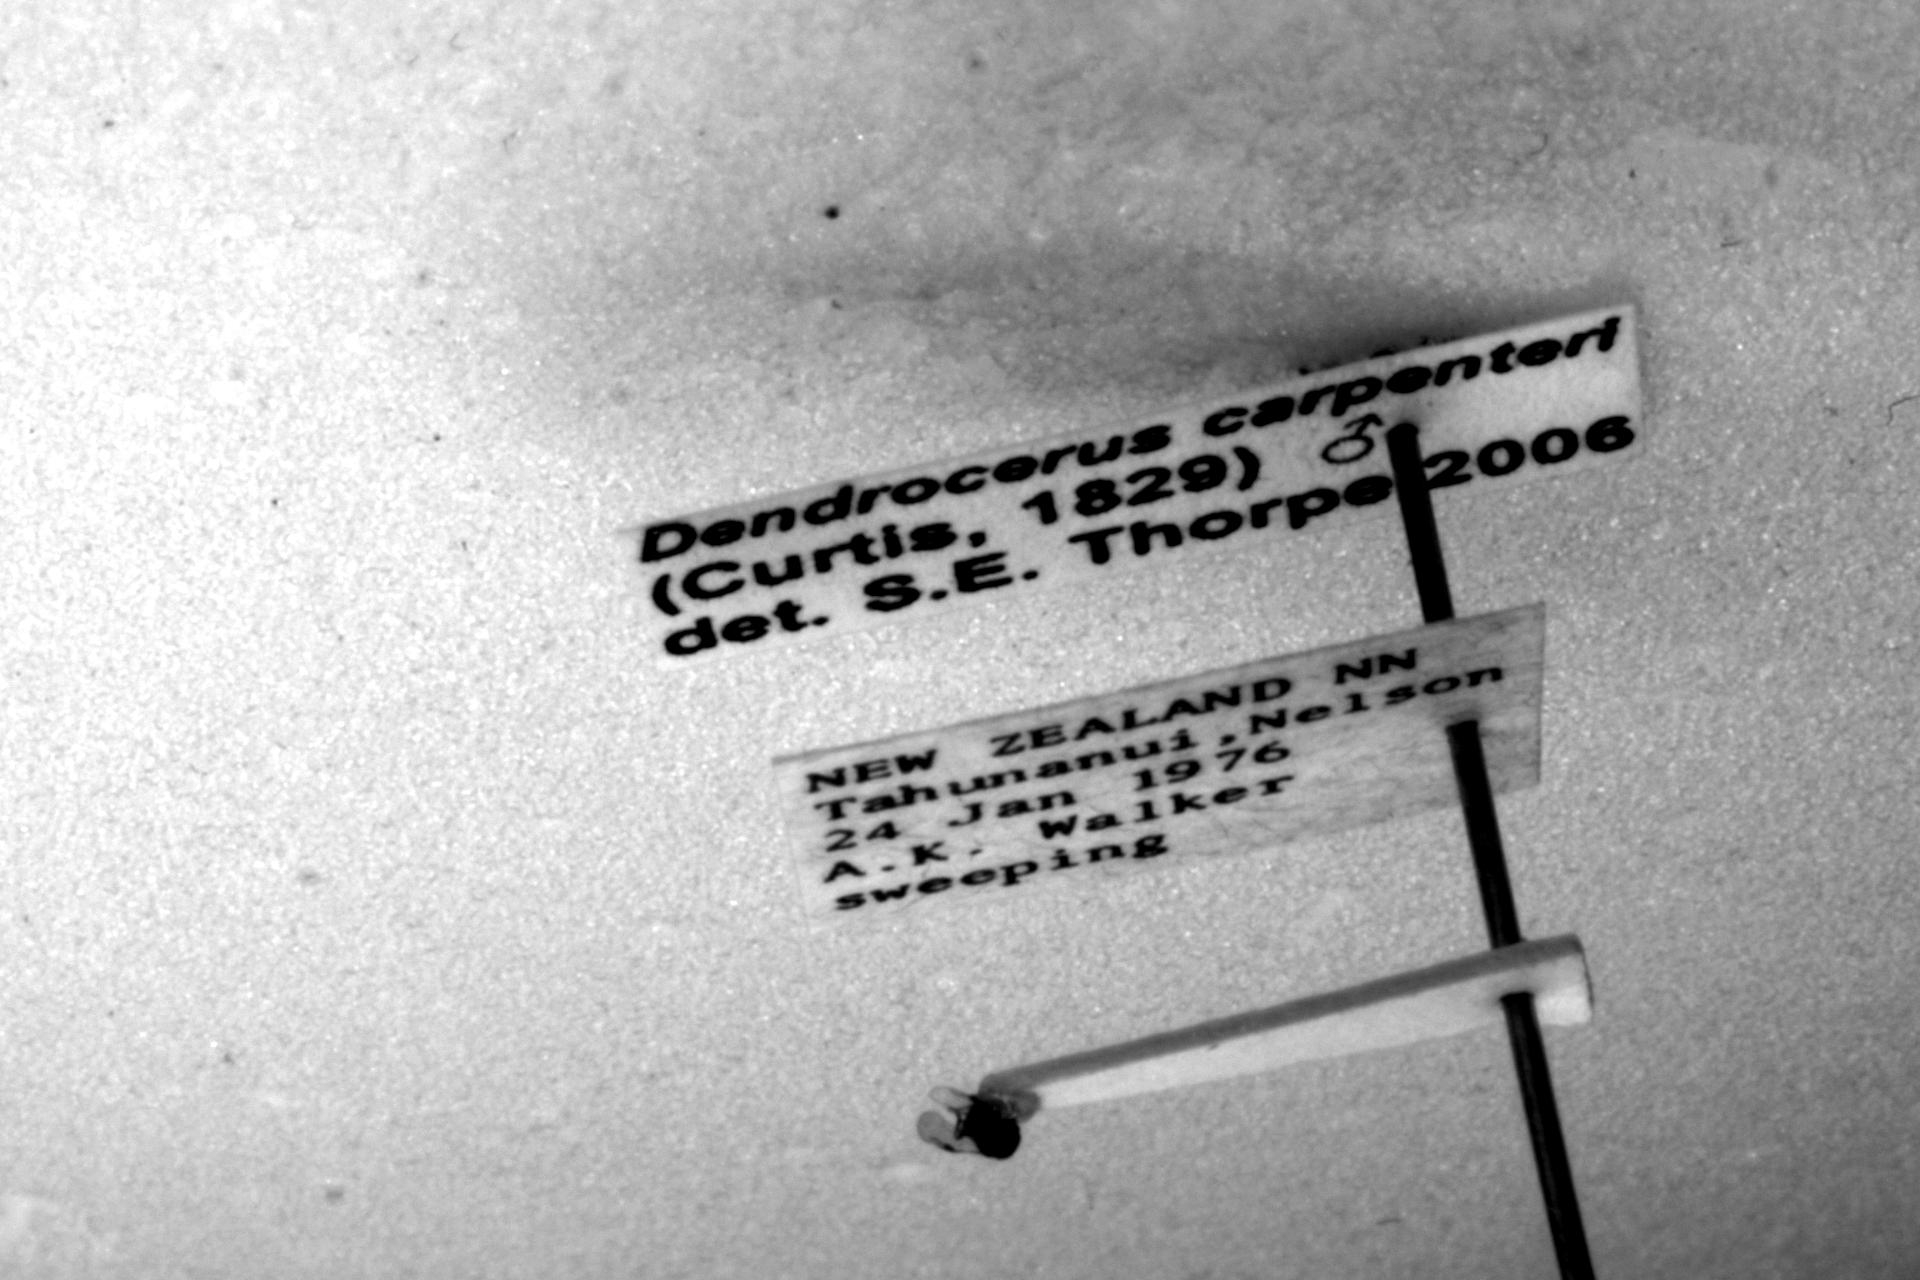typed_label: (623, 307, 1643, 667), (776, 604, 1541, 930)
